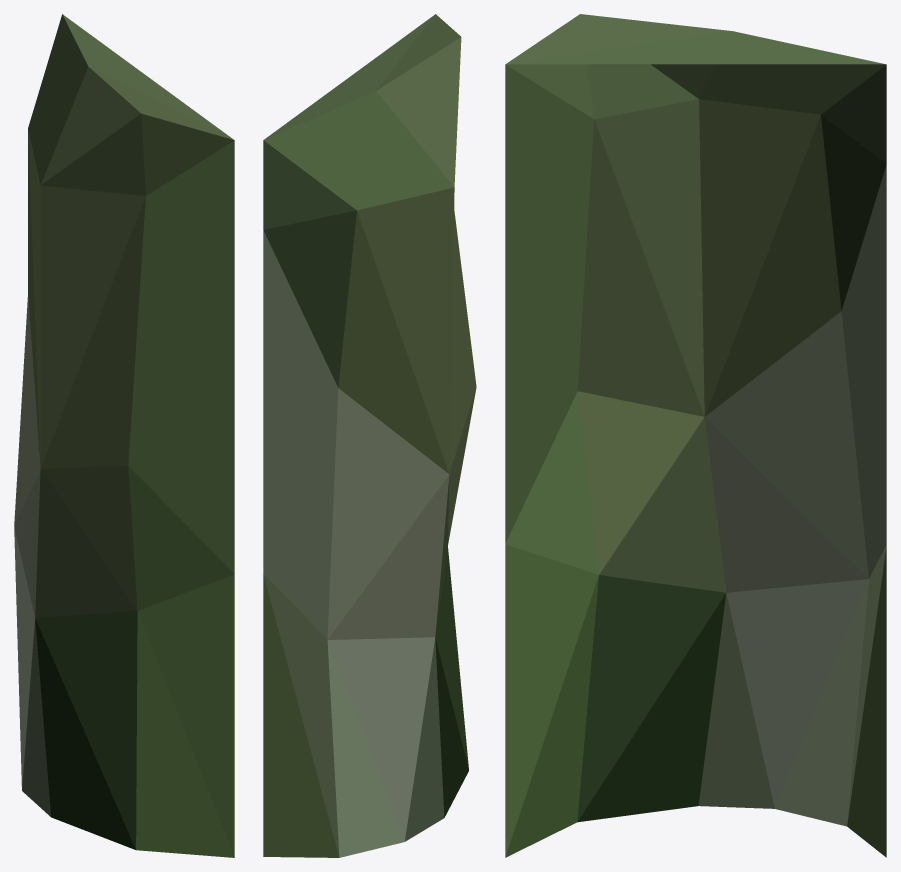
File: Wall_Foliage-End.fbx
The picture shows the model from 3 angles, left to right: view 1: azimuth 30°, elevation 25°; view 2: azimuth 150°, elevation 25°; view 3: azimuth 270°, elevation 25°; orthographic projection. The views are drawn at different scales.
Visible parts, largest first — view 1: Wall_Foliage-End; view 2: Wall_Foliage-End; view 3: Wall_Foliage-End.
Part boxes in pixels (x1=…): Wall_Foliage-End: x1=14, y1=14, x2=234, y2=857; Wall_Foliage-End: x1=263, y1=14, x2=476, y2=857; Wall_Foliage-End: x1=505, y1=14, x2=886, y2=857.
Bounding box in the file's own units: 30.06 × 198 × 84.3.
